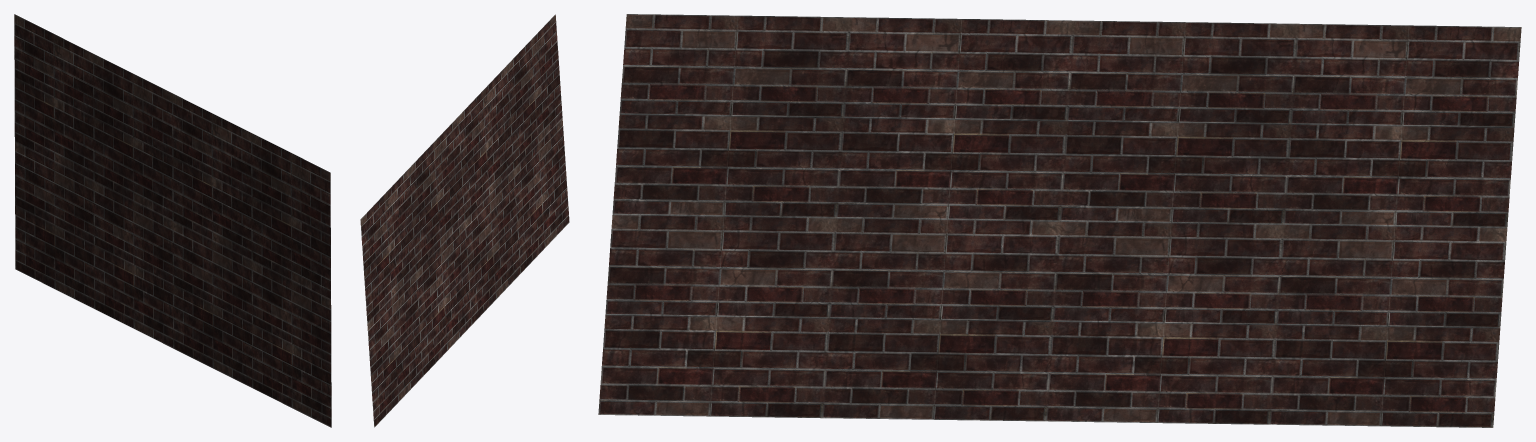
The model's file is BrickWall.glb.
3 views of the same model, side by side, from view 1: azimuth 30°, elevation 25°; view 2: azimuth 150°, elevation 25°; view 3: azimuth 270°, elevation 25° (orthographic). The views are drawn at different scales.
Visible parts, largest first — view 1: pPlane1; view 2: pPlane1; view 3: pPlane1.
Part boxes in pixels (x1,y1,x2,y2): pPlane1: (14, 14, 331, 427); pPlane1: (360, 14, 569, 427); pPlane1: (598, 14, 1521, 427).
Bounding box in the file's own units: 5.26 × 26.8 × 49.21.
Materials: 1 (1 with a texture image).
